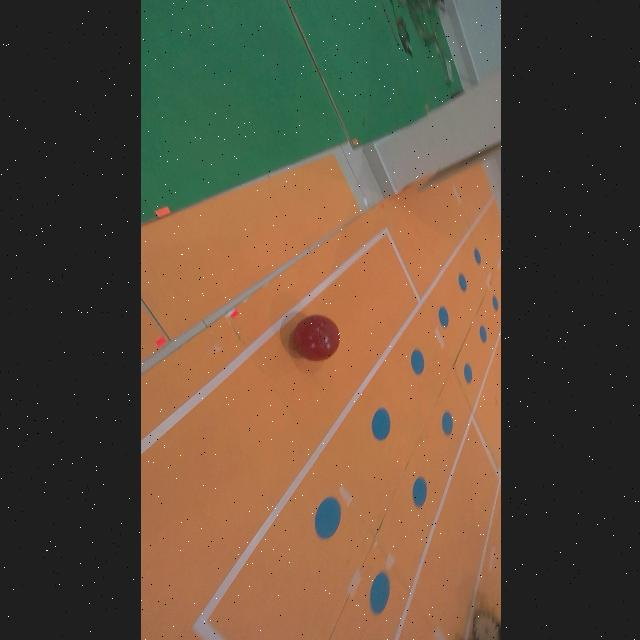R: (290, 315, 339, 362)
